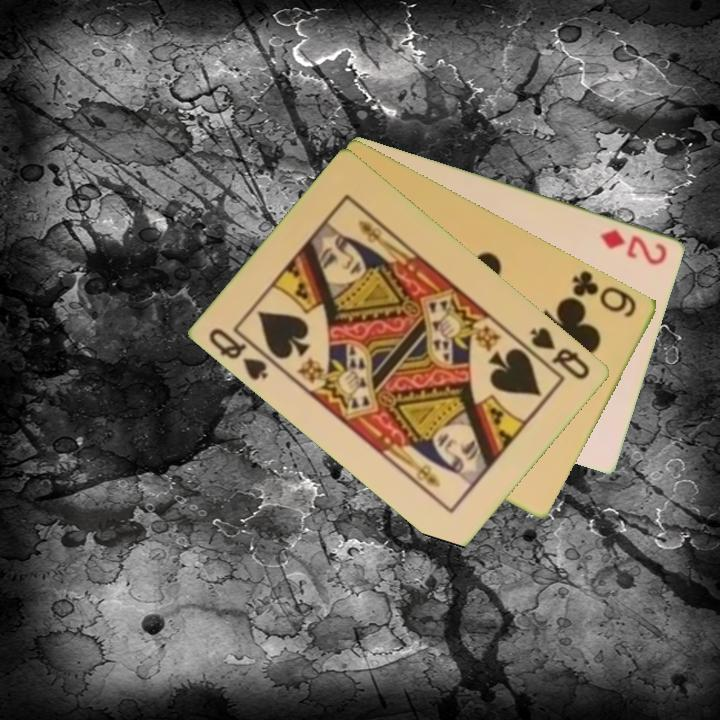2d: (597, 225, 671, 268)
6c: (568, 266, 640, 320)
Qs: (206, 324, 281, 384), (526, 323, 594, 383)
